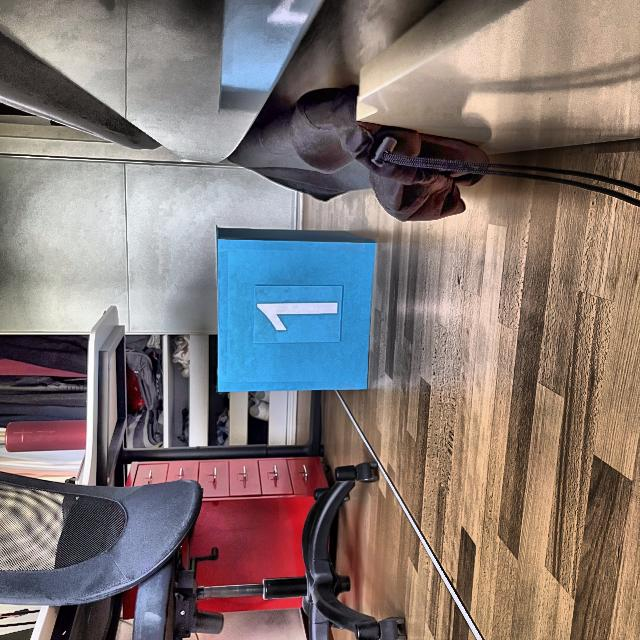blue box: (216, 225, 373, 395)
one: (255, 300, 341, 336)
